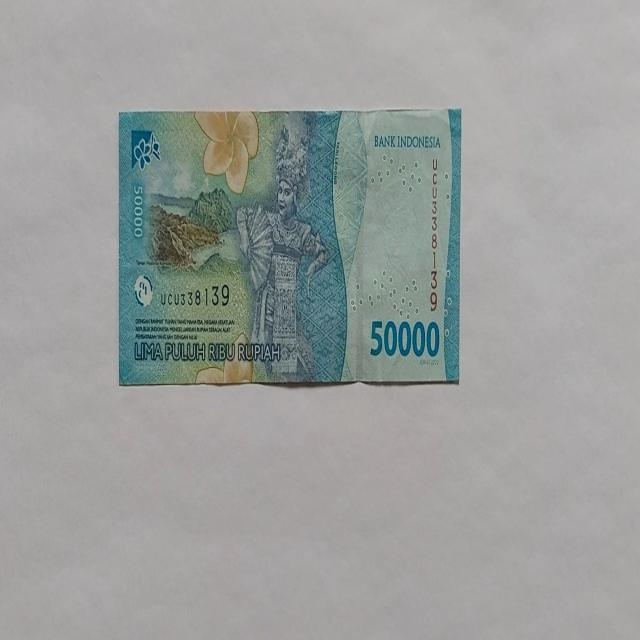lima puluh ribu rupiah: (118, 108, 462, 388), (235, 119, 332, 382), (368, 316, 441, 360)
